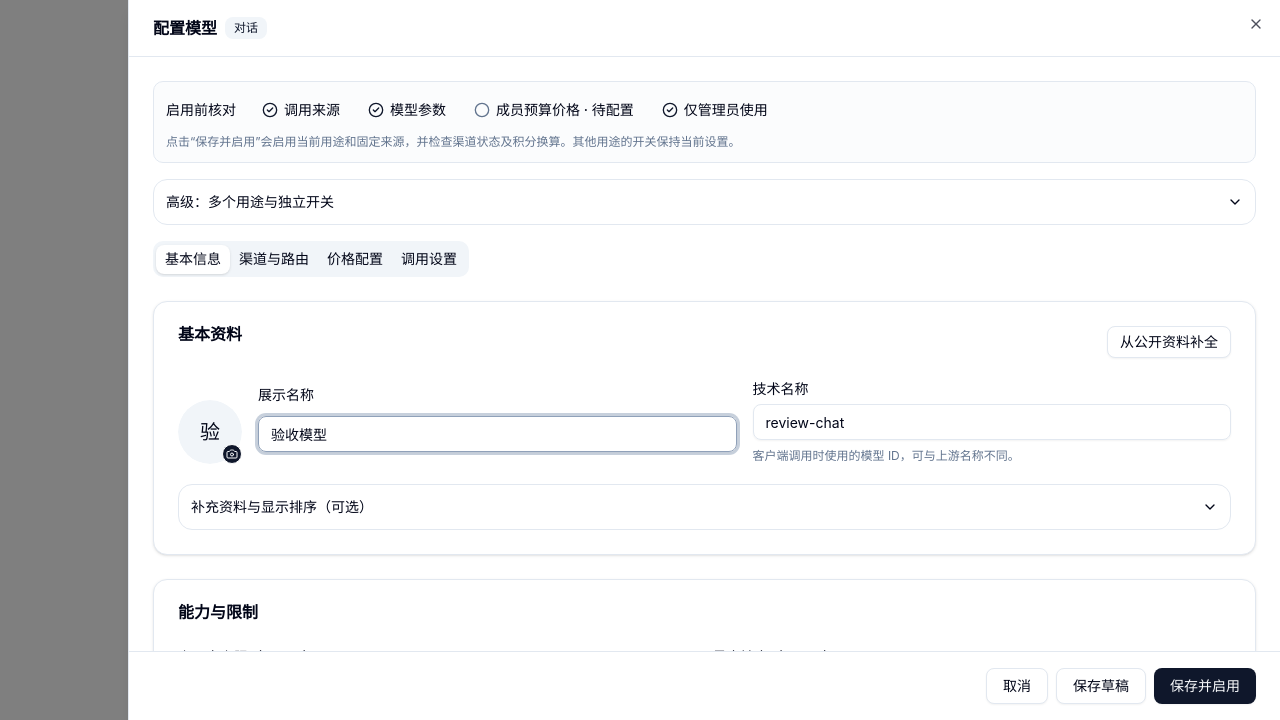
Test: requires an explicit budget price and keeps unknown cost distinct from free
The width and height of the screenshot is (1280, 720).
Click the button "保存并启用": (1205, 686) x1=1154 y1=668 x2=1256 y2=704
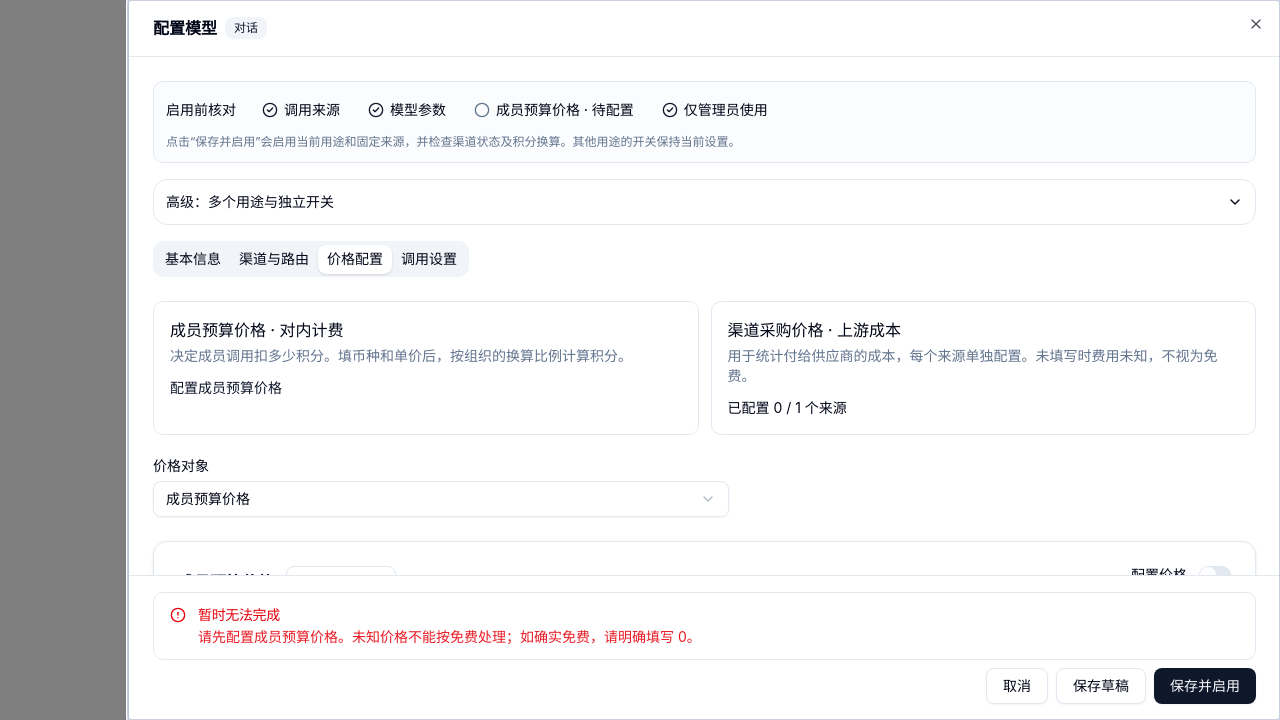
Now the text "请先配置成员预算价格。未知价格不能按免费处理；如确实免费，请明确填写 0。" is shown, box x1=198 y1=627 x2=701 y2=647
